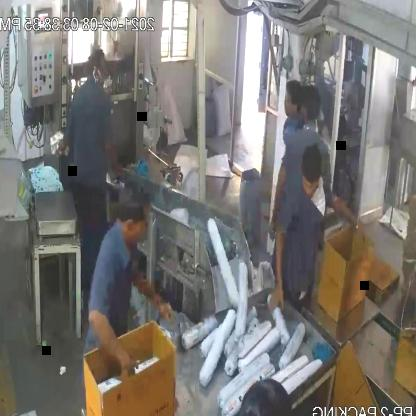no_glove: (84, 289, 138, 383), (266, 206, 295, 320), (128, 260, 182, 318), (328, 197, 367, 239)
